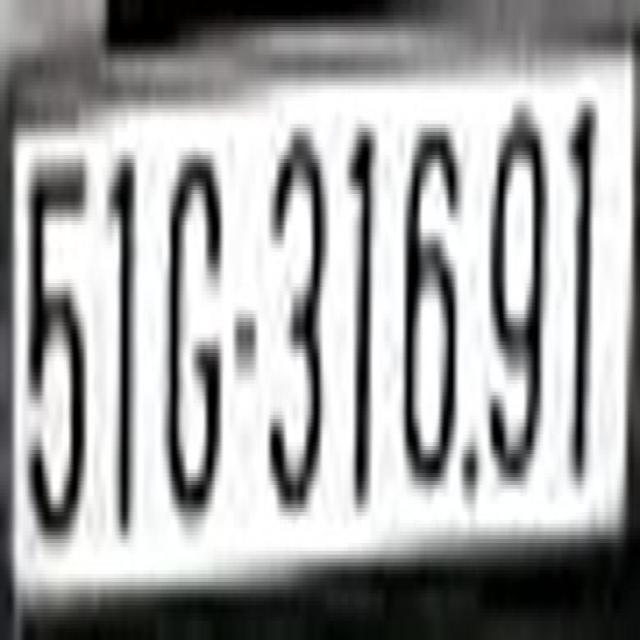1: (107, 136, 138, 539), (566, 101, 595, 496), (347, 112, 373, 496)
3: (267, 128, 321, 520)
5: (26, 144, 90, 543)
6: (407, 97, 455, 477)
9: (502, 97, 544, 489)
G: (169, 152, 220, 496)
